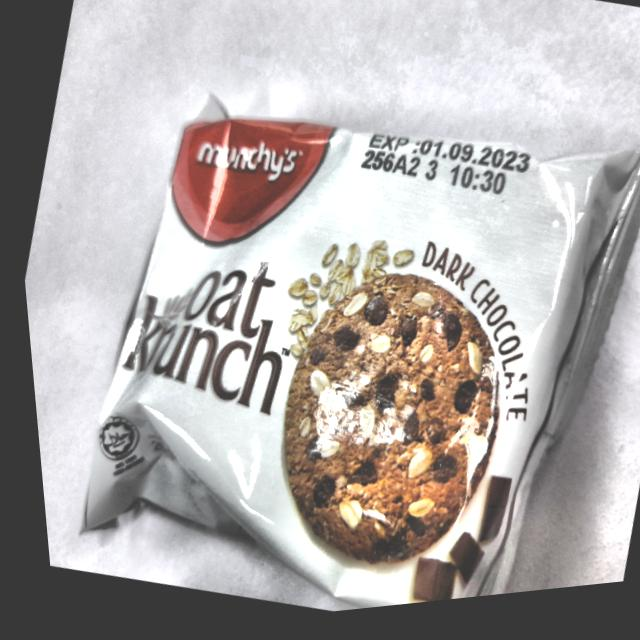Plastic: (44, 49, 640, 637)
